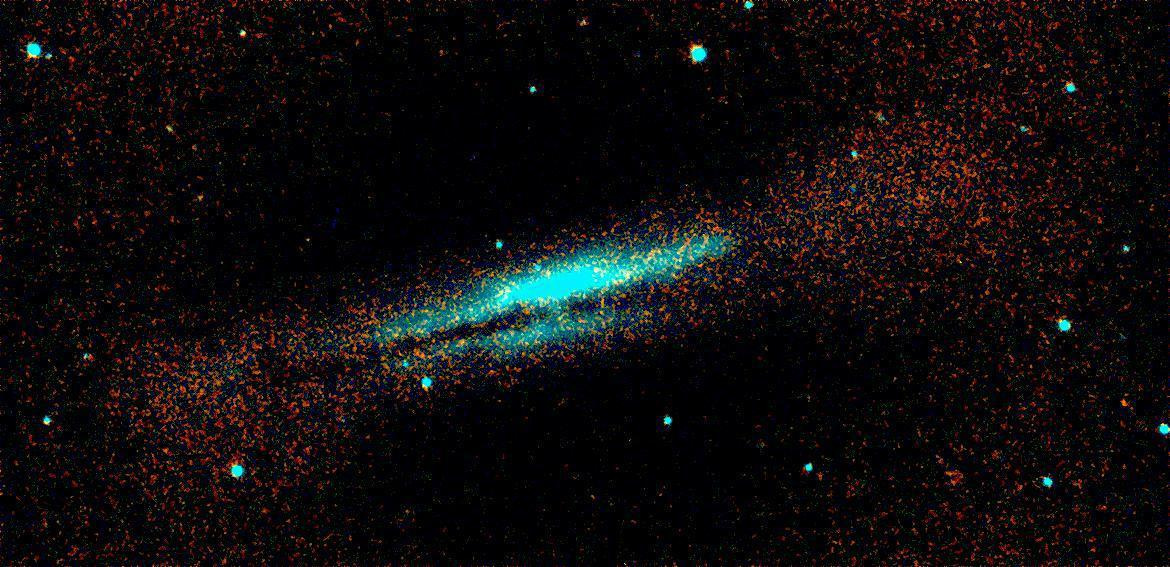star: (1115, 391, 1145, 421)
